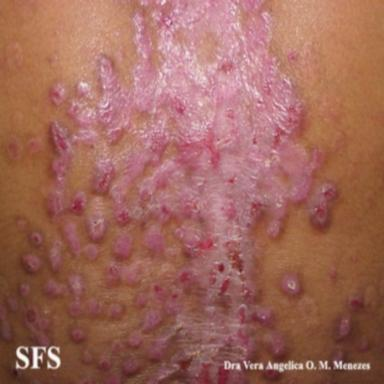Epidermolysis-Bullosa-Pruriginosa: (1, 2, 337, 381), (336, 292, 367, 340), (282, 274, 302, 295), (7, 136, 23, 159), (25, 138, 42, 152), (47, 53, 59, 67), (357, 340, 370, 351), (287, 50, 298, 61), (329, 266, 337, 280)
